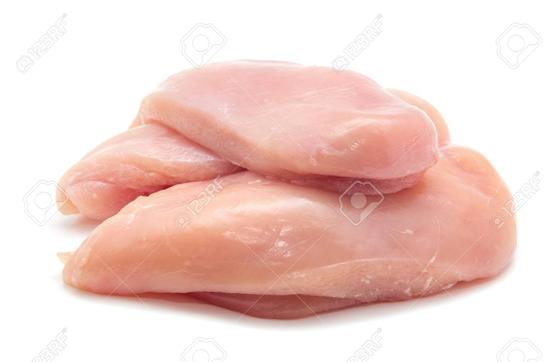chicken_fillet: (74, 151, 526, 316), (139, 65, 460, 192)
